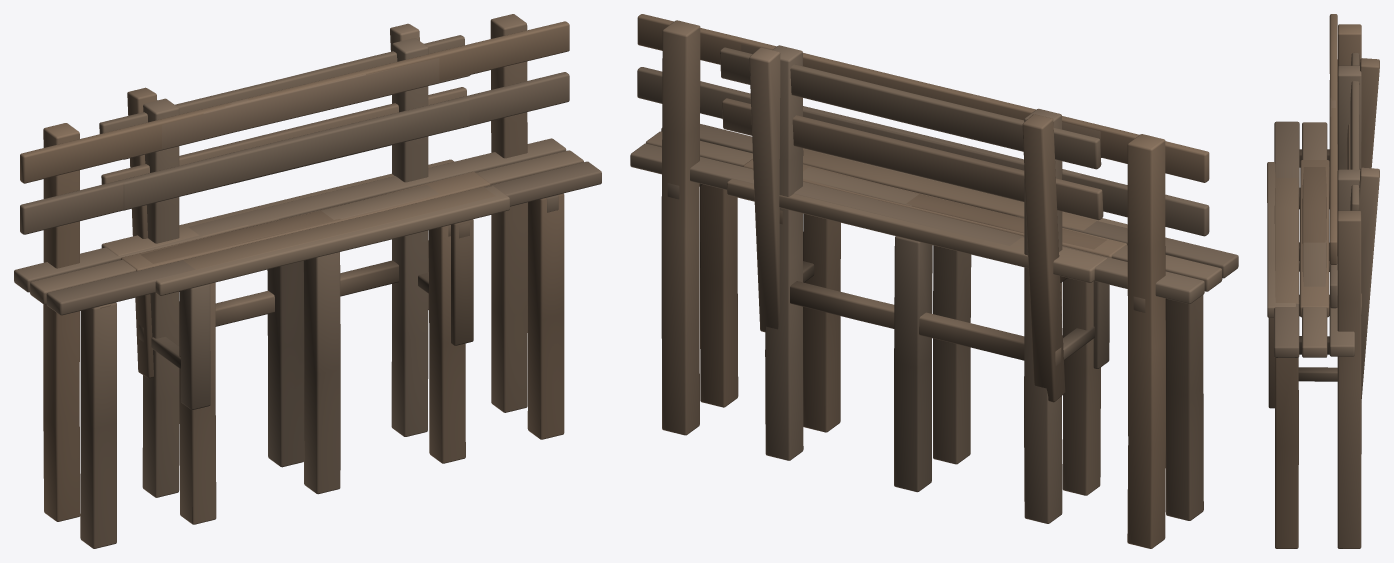
Rendered from benches.glb.
3 views of the same model, side by side, from view 1: azimuth 30°, elevation 25°; view 2: azimuth 150°, elevation 25°; view 3: azimuth 270°, elevation 25° (orthographic). The views are drawn at different scales.
Visible parts, largest first — view 1: bench_long, bench_short, bench_camp; view 2: bench_long, bench_camp, bench_short; view 3: bench_long, bench_camp, bench_short.
Part boxes in pixels (x1,y1,x2,y2): bench_long: (14, 14, 601, 548); bench_short: (123, 38, 495, 524); bench_camp: (99, 23, 509, 409); bench_long: (630, 14, 1238, 548); bench_camp: (720, 47, 1127, 402); bench_short: (741, 44, 1106, 523); bench_long: (1274, 14, 1361, 548); bench_camp: (1267, 52, 1379, 408); bench_short: (1274, 65, 1361, 303).
Size of the model in its own units: 1.93 by 1.32 by 0.4037.
